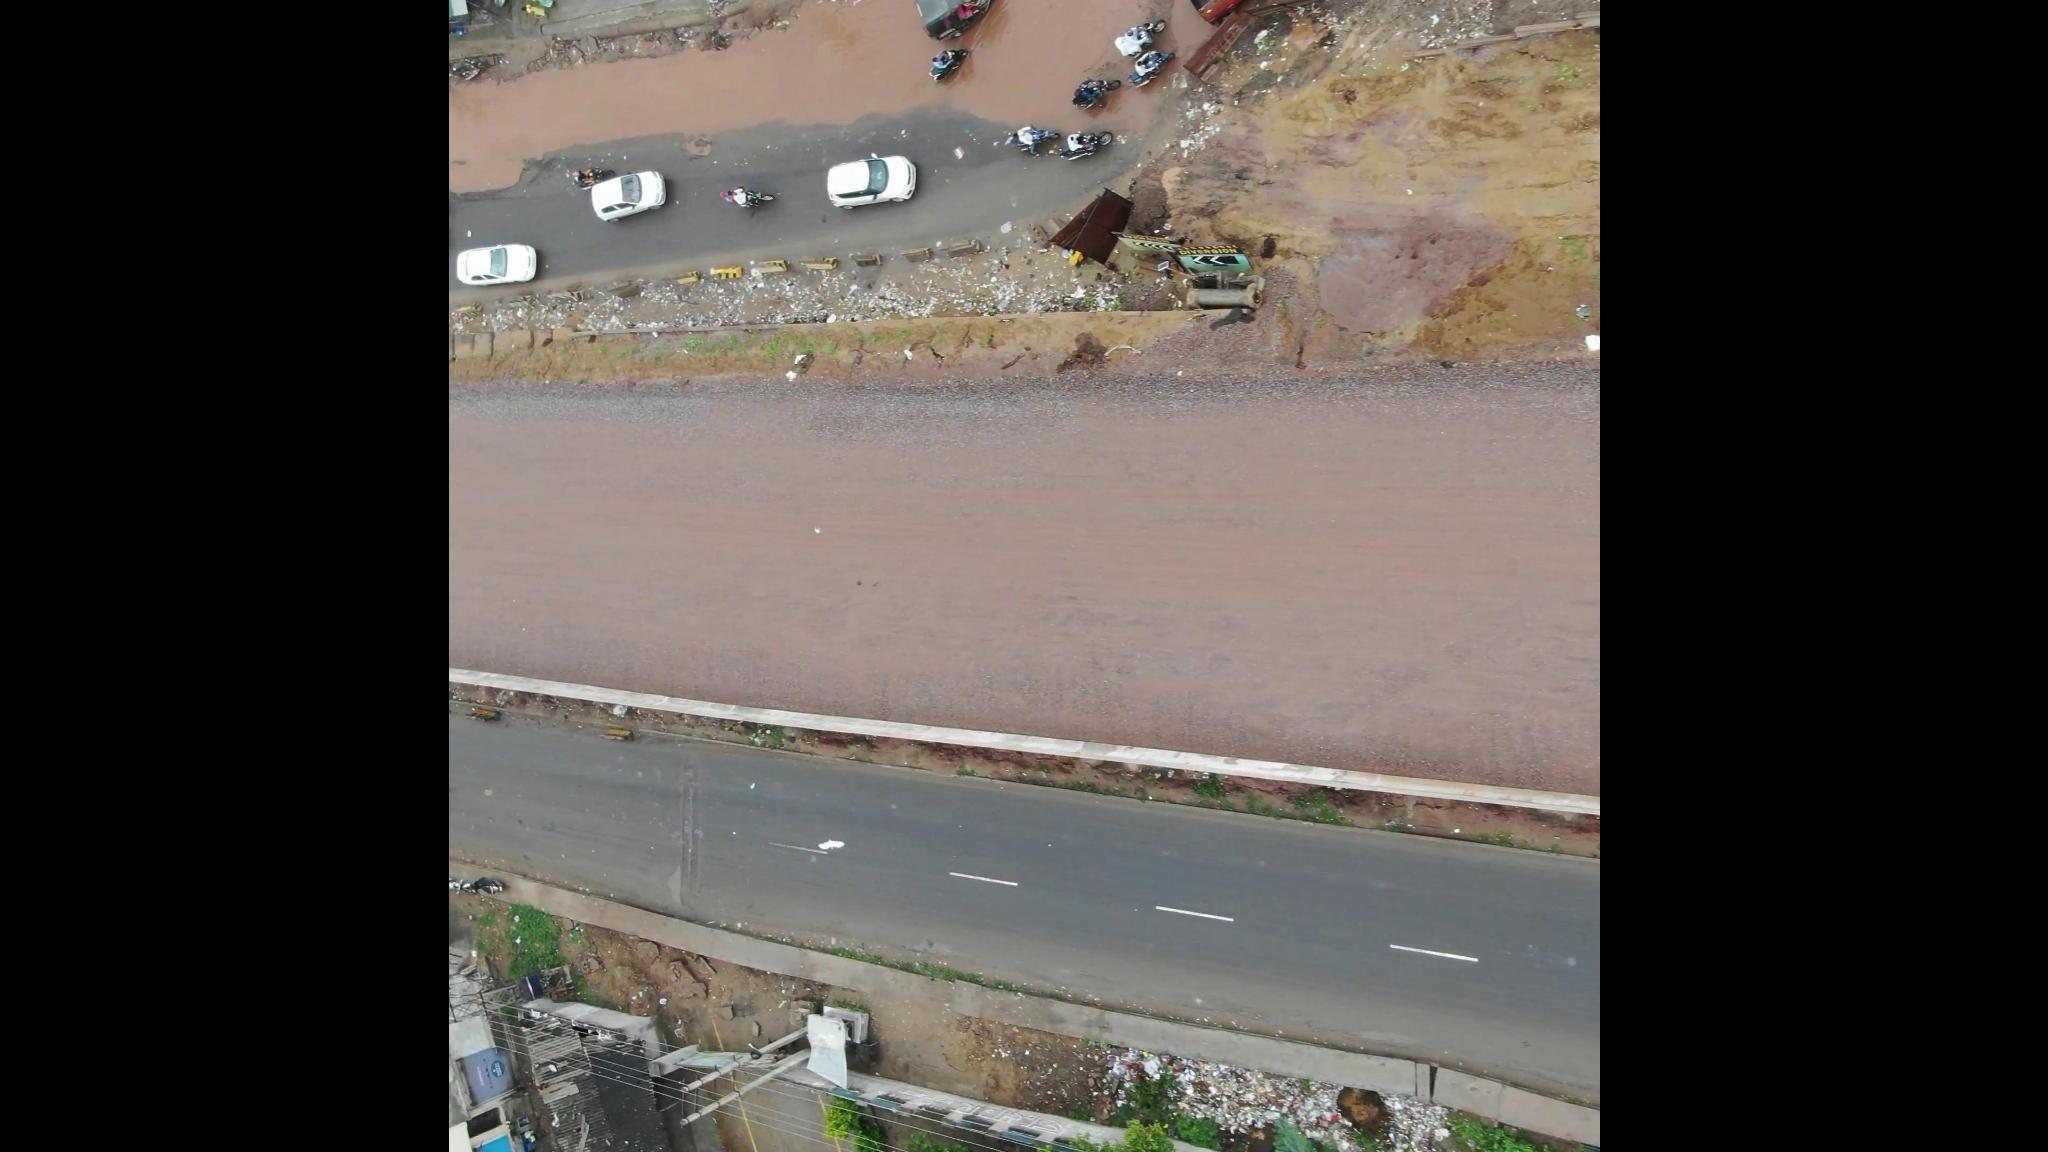Potholes: (654, 745, 738, 897)
Waterlogging: (776, 1, 1131, 151), (454, 44, 753, 188)
